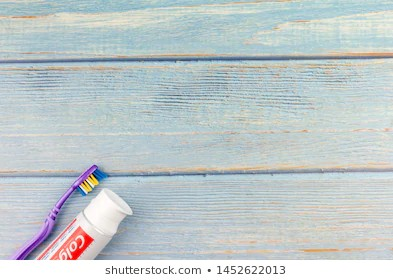toothbrush: (21, 161, 107, 243)
